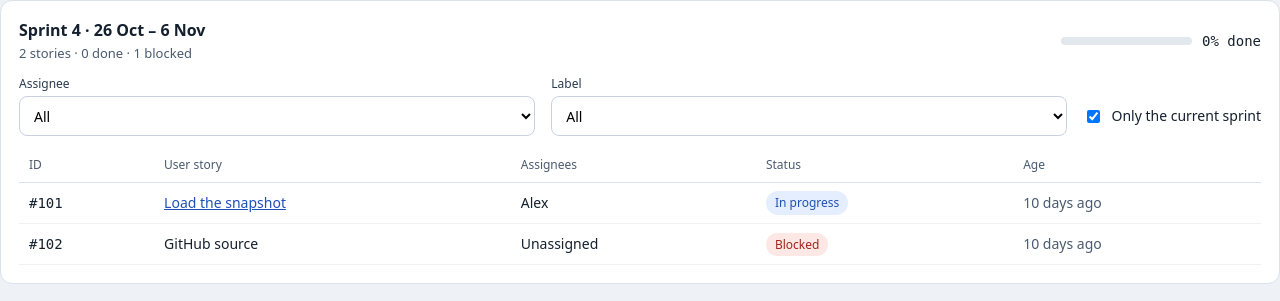
Test: StoryBoard › says no story matches only when a filter is set
Select "Alex" in the dropdown labelled "Assignee" at {"x": 277, "y": 116}, box x1=19 y1=96 x2=535 y2=136
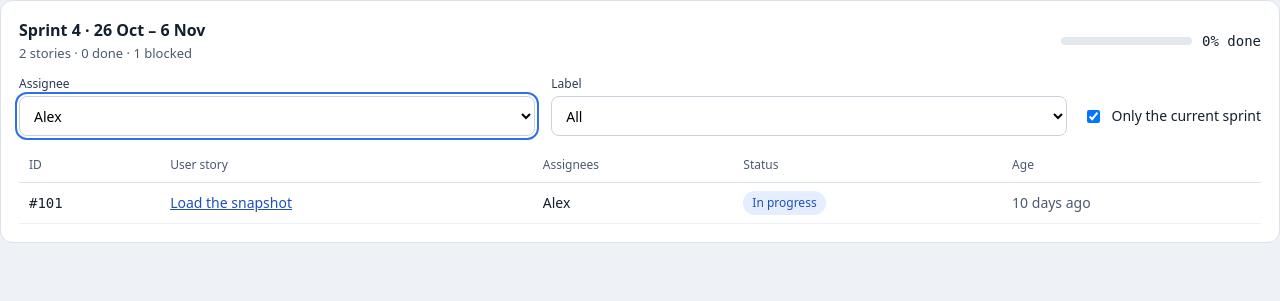
Select "area: collector" in the dropdown labelled "Label" at {"x": 809, "y": 116}, box x1=551 y1=96 x2=1067 y2=136
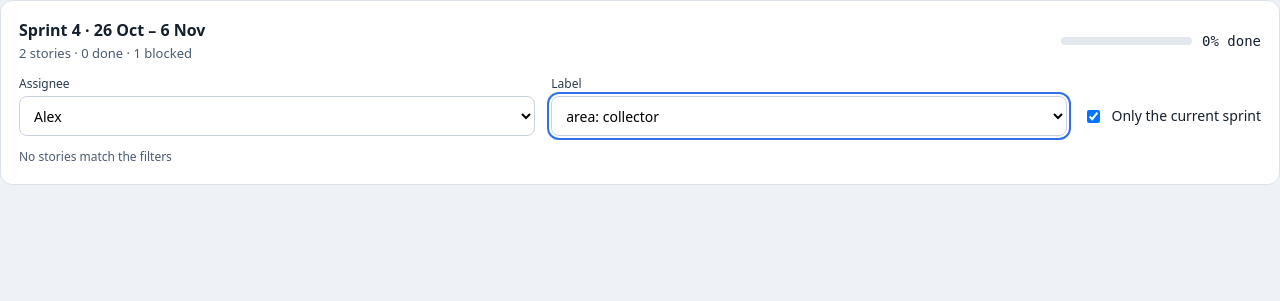
expect the text "No stories match the filters" is shown: met, box x1=19 y1=148 x2=172 y2=165
